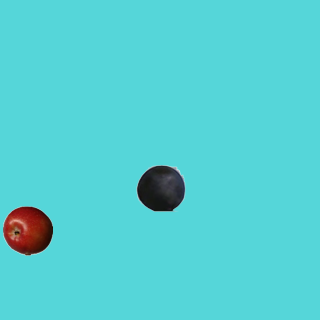Apple Braeburn: (2, 205, 52, 255)
Grape Blue: (135, 162, 185, 212)
